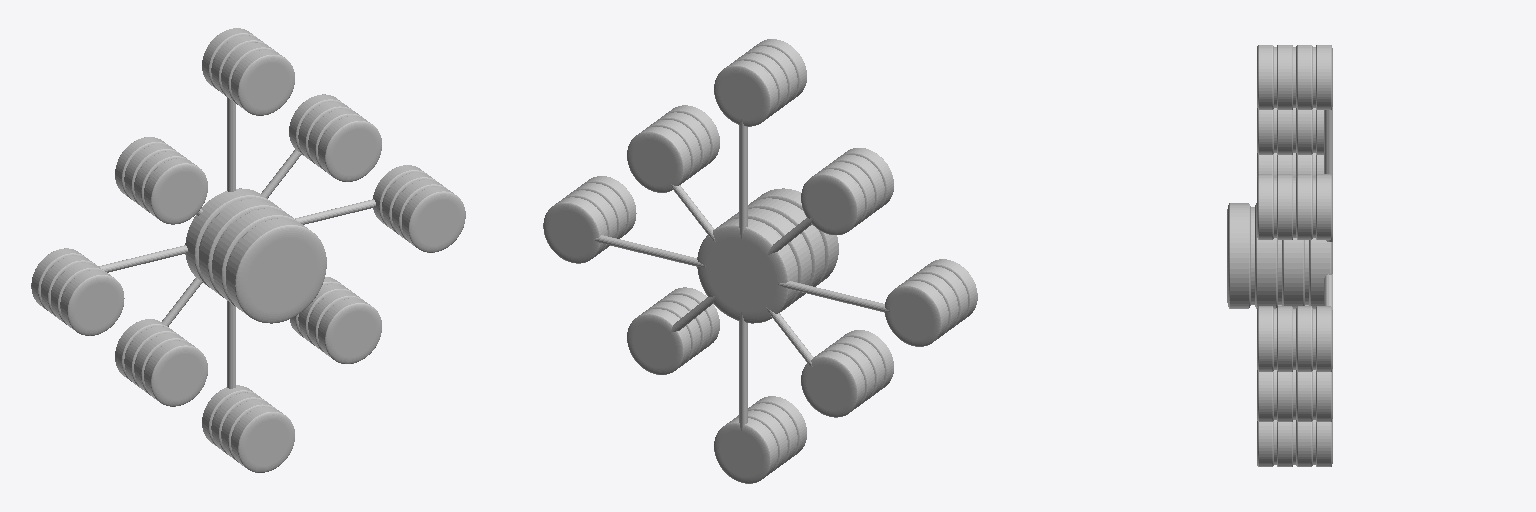
The model's file is tipos.obj.
The picture shows the model from 3 angles: view 1: azimuth 30°, elevation 25°; view 2: azimuth 150°, elevation 25°; view 3: azimuth 270°, elevation 25°; orthographic projection.
Visible parts, largest first — view 1: obj_0; view 2: obj_0; view 3: obj_0.
Part boxes in pixels (bbox=[...]): obj_0: bbox=[31, 28, 465, 472]; obj_0: bbox=[543, 39, 977, 483]; obj_0: bbox=[1227, 45, 1332, 466].
Bounding box in the file's own units: 109 × 109 × 25.